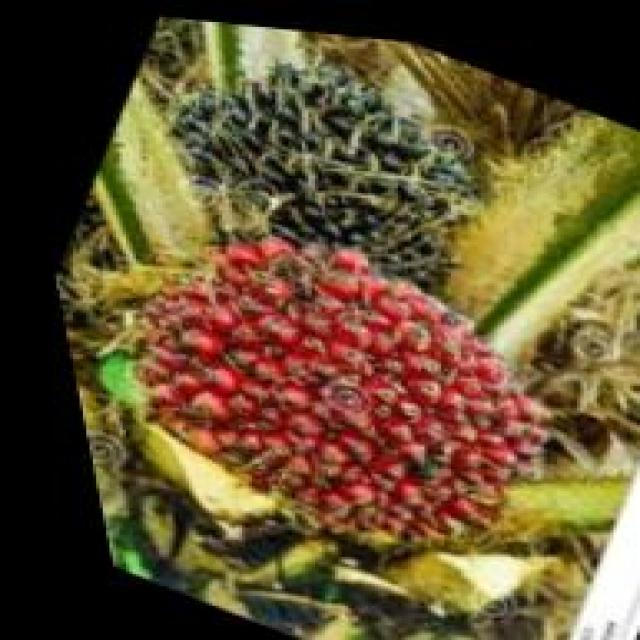Ripefruit: (48, 173, 602, 579)
